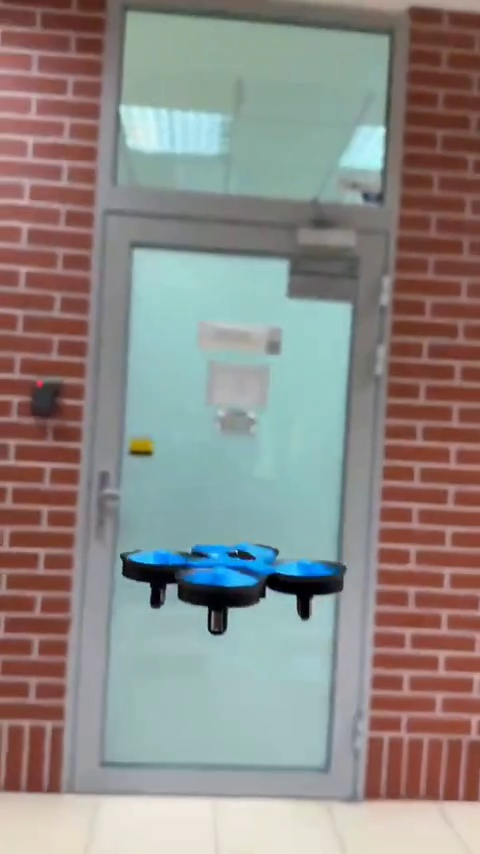drone: (125, 541, 357, 635)
